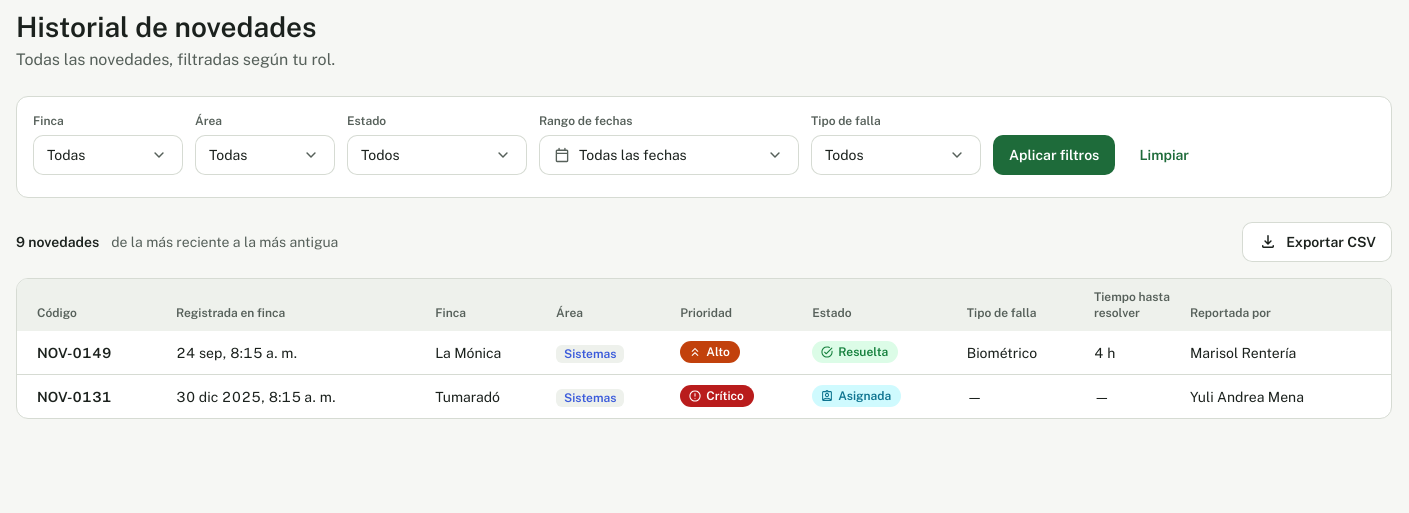
Test: Pantalla 21 · Historial de novedades (RF-19, CU-19) › RF-19 / CU-19 3: lo elegido se aplica con «Aplicar filtros», no antes
The image size is (1409, 513).
Expected: the table is shown, [17,279,1391,418]
Select "La Mónica" in the dropdown labelled "Finca" at point(108, 155), box [33,135,183,175]
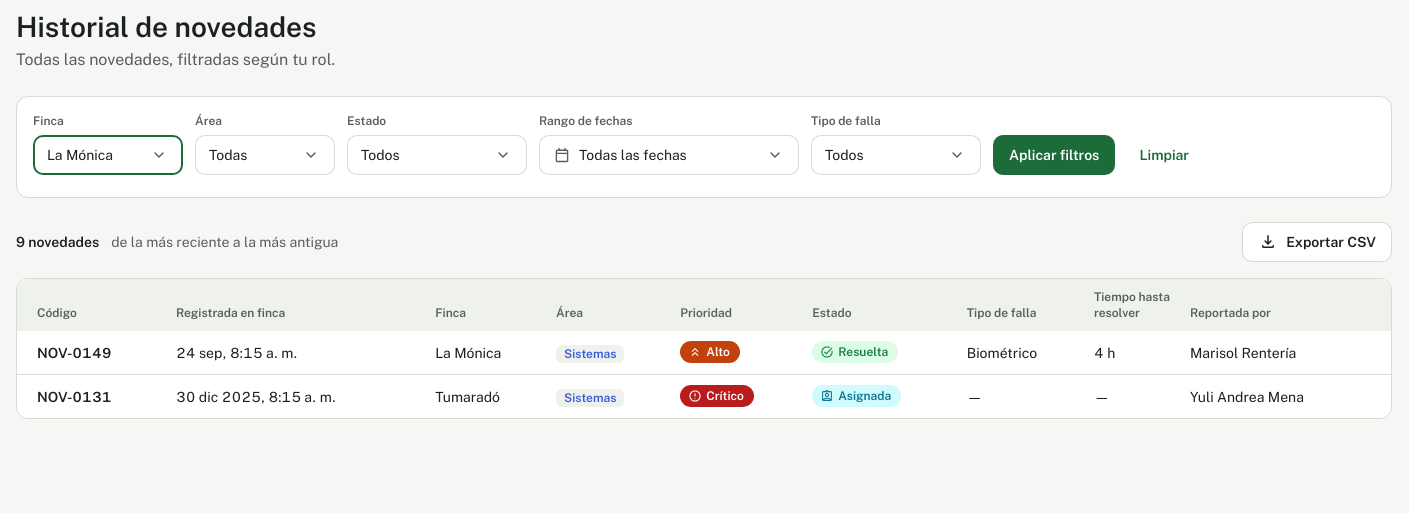
Click the button named "Estado Todos" at point(437, 155), box [347,135,527,175]
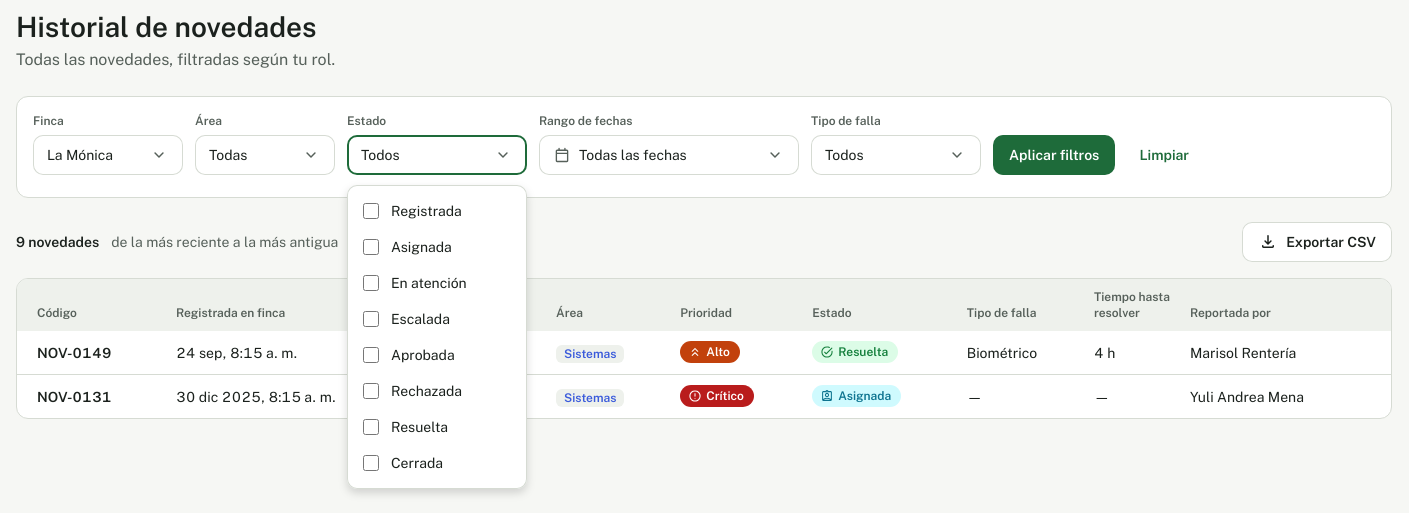
Click the checkbox labelled "Cerrada" at point(371, 463), box [363,455,379,471]
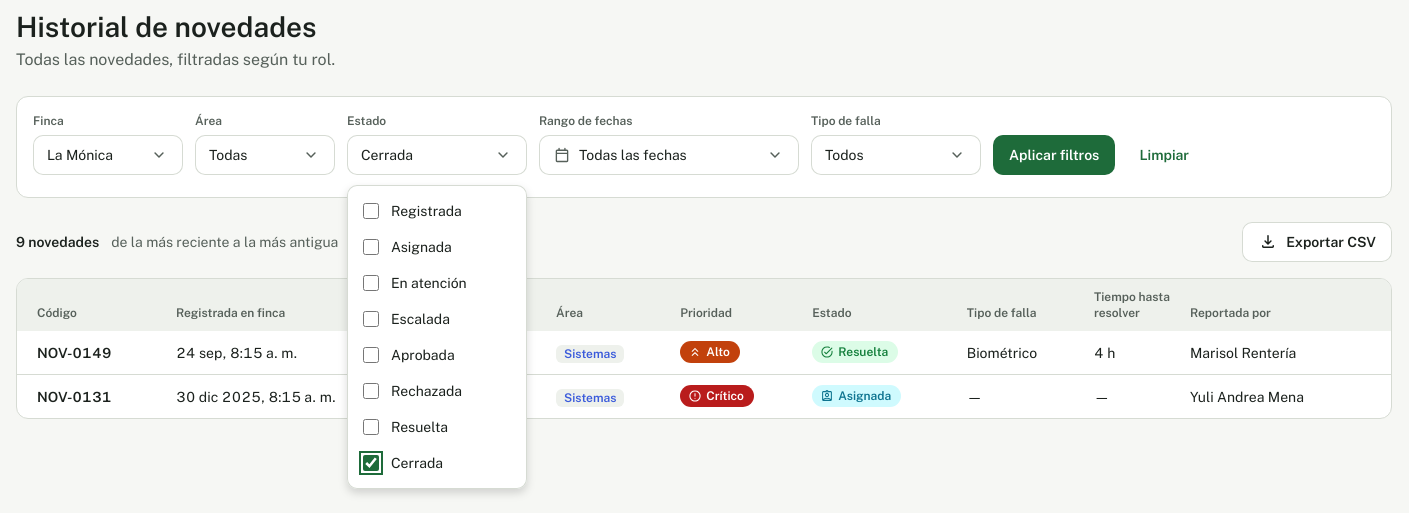
Click the checkbox labelled "Resuelta" at point(371, 427), box [363,419,379,435]
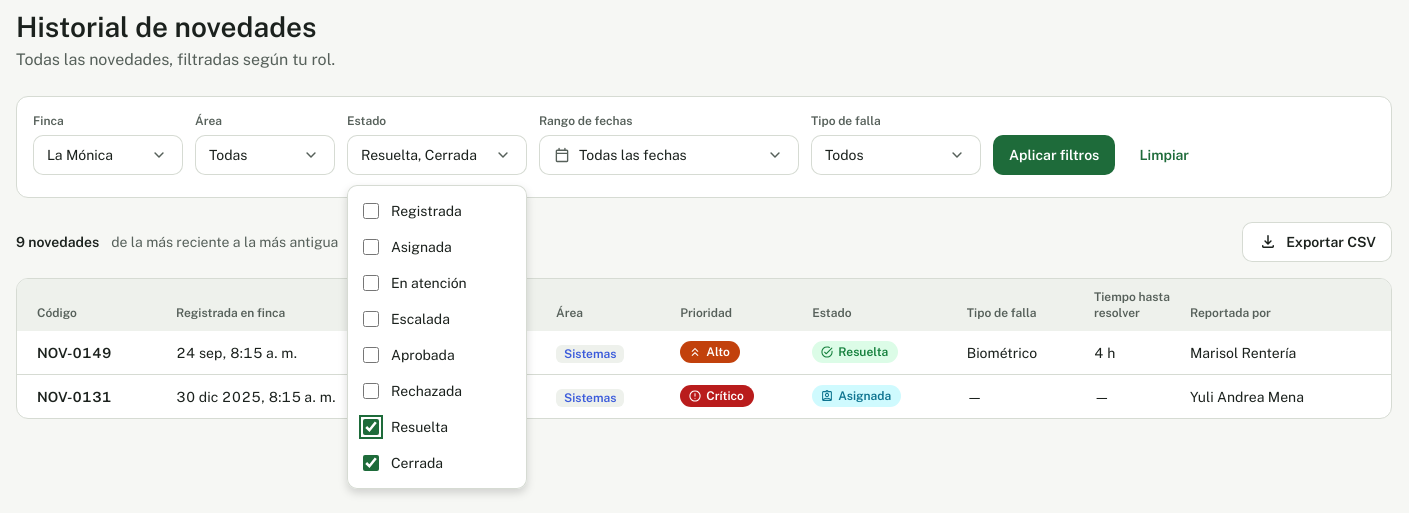
Click the button "Aplicar filtros" at point(1054, 155), box [993,135,1115,175]
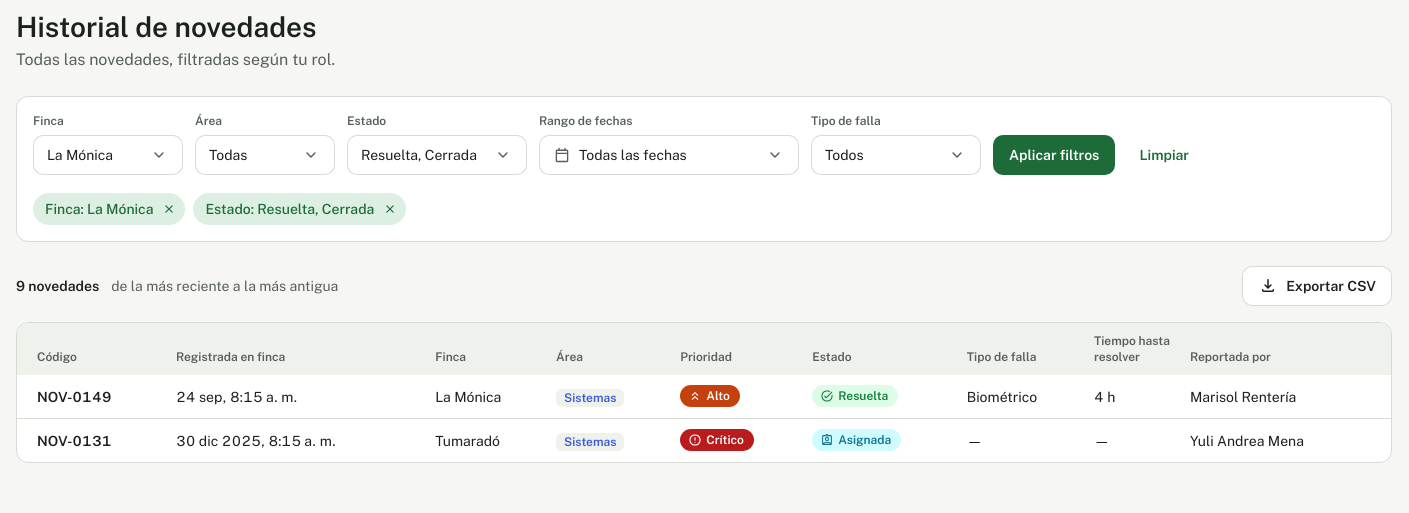
Expected: the list item "Finca: La Mónica" is shown, [33,193,185,225]
